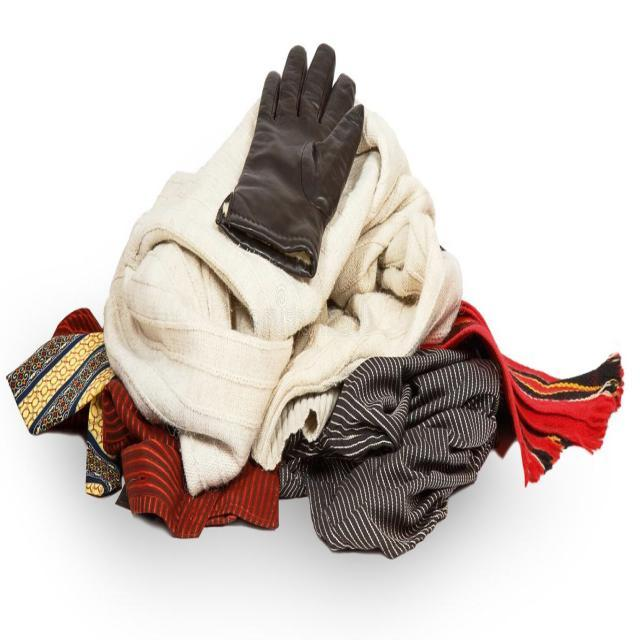clothes: (0, 34, 529, 574)
